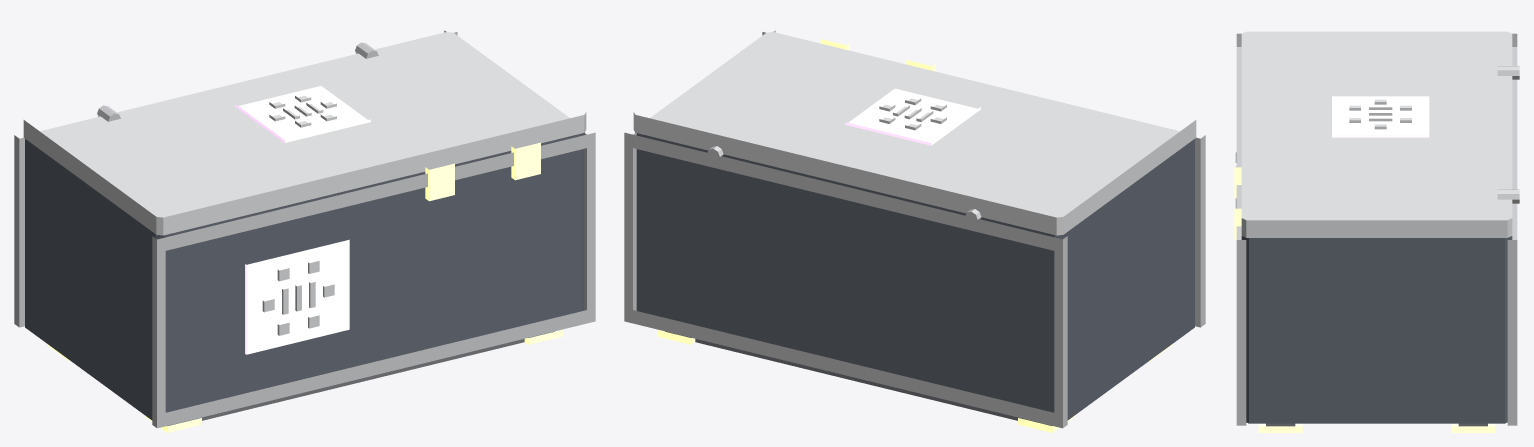
Rendered from iter_03_104.glb.
The picture shows the model from 3 angles, left to right: view 1: azimuth 30°, elevation 25°; view 2: azimuth 150°, elevation 25°; view 3: azimuth 270°, elevation 25°; orthographic projection.
Visible parts, largest first — view 1: Body_104, Lid_104, Frame_104, Glyph_Plate_104, Lid_Glyph_104, Latches_104, Glyph_Marks_104, Skids_104, Lid_Glyph_Marks_104, Floor_Clamps_104; view 2: Body_104, Lid_104, Frame_104, Lid_Glyph_104, Skids_104, Lid_Glyph_Marks_104, Floor_Clamps_104; view 3: Lid_104, Body_104, Frame_104, Lid_Glyph_104, Floor_Clamps_104, Lid_Glyph_Marks_104, Hinges_104, Latches_104.
Boxes of the visible parts, bbox=[...] form: Body_104: bbox=[25, 132, 584, 420]; Lid_104: bbox=[23, 32, 586, 235]; Frame_104: bbox=[14, 30, 595, 428]; Glyph_Plate_104: bbox=[245, 239, 349, 354]; Lid_Glyph_104: bbox=[235, 86, 370, 142]; Latches_104: bbox=[425, 142, 540, 201]; Glyph_Marks_104: bbox=[262, 261, 334, 335]; Skids_104: bbox=[168, 331, 554, 425]; Lid_Glyph_Marks_104: bbox=[269, 96, 336, 127]; Floor_Clamps_104: bbox=[47, 330, 562, 432]; Body_104: bbox=[635, 132, 1194, 420]; Lid_104: bbox=[633, 32, 1196, 235]; Frame_104: bbox=[624, 30, 1205, 428]; Lid_Glyph_104: bbox=[845, 88, 980, 145]; Skids_104: bbox=[665, 331, 1051, 425]; Lid_Glyph_Marks_104: bbox=[879, 98, 946, 130]; Floor_Clamps_104: bbox=[657, 330, 1172, 432]; Lid_104: bbox=[1241, 31, 1512, 237]; Body_104: bbox=[1241, 236, 1512, 423]; Frame_104: bbox=[1236, 33, 1517, 425]; Lid_Glyph_104: bbox=[1332, 96, 1429, 137]; Floor_Clamps_104: bbox=[1258, 423, 1495, 432]; Lid_Glyph_Marks_104: bbox=[1349, 99, 1411, 129]; Hinges_104: bbox=[1497, 66, 1519, 203]; Latches_104: bbox=[1234, 167, 1241, 239].
Bounding box in the file's own units: 1.02 × 0.512 × 0.585.
